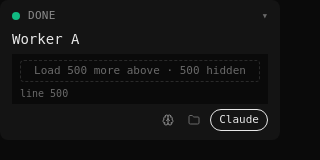
it: WorkerNode — expand toggle (Phase 4 Step 3) › shows "load more above" when the log exceeds the render window
The image size is (320, 160).
Click the button with test id "worker-log-load-more" at (140, 71), box [20,60,260,82]
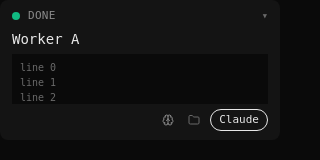
Result: the button with test id "worker-log-load-more" is gone
